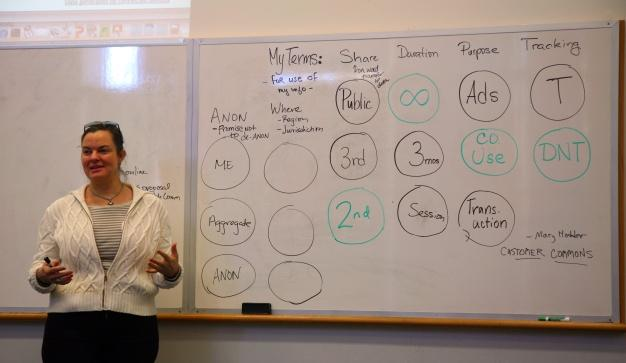Whiteboard: (186, 19, 625, 324), (0, 36, 193, 312)
